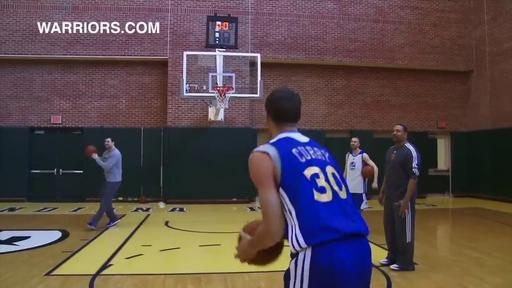ball: (238, 220, 284, 266), (360, 166, 375, 178), (84, 145, 96, 158)
human: (236, 87, 372, 288), (380, 123, 422, 272), (342, 138, 378, 217)
rim: (212, 86, 234, 110)
